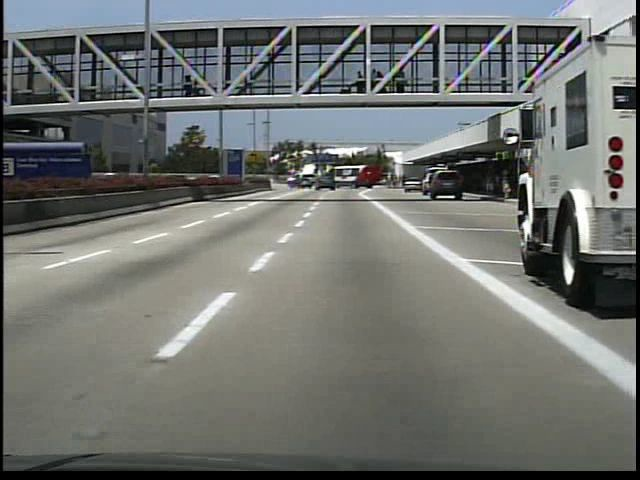person: (177, 71, 194, 98), (484, 172, 496, 199)
